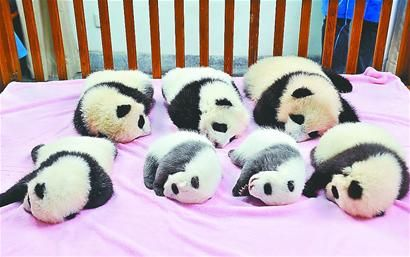panda: (6, 135, 130, 223), (232, 53, 359, 136), (300, 133, 410, 223), (160, 62, 257, 146), (131, 129, 230, 210), (224, 135, 310, 213), (76, 61, 156, 140)
